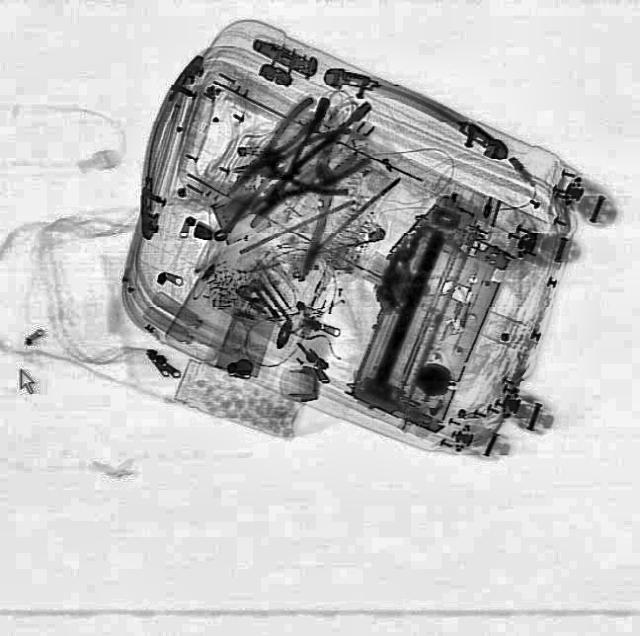Pliers: (242, 124, 372, 230), (216, 92, 330, 200)
Wrench: (212, 172, 266, 242)
